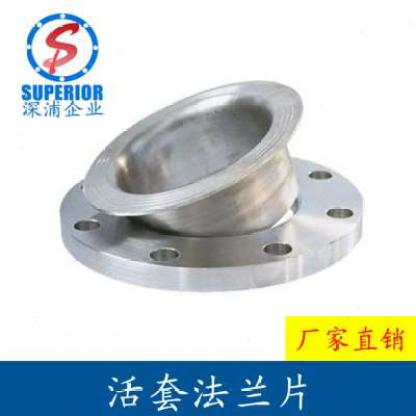FOD: (51, 136, 370, 294)
